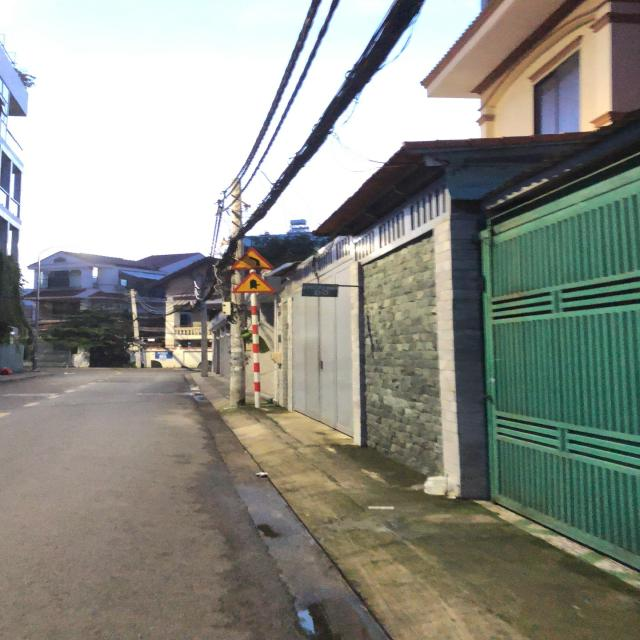Bien bao cho ngoat nguy hiem: (222, 244, 277, 270)
Bien bao giao nhau voi duong khong uu tien: (225, 270, 281, 292)
